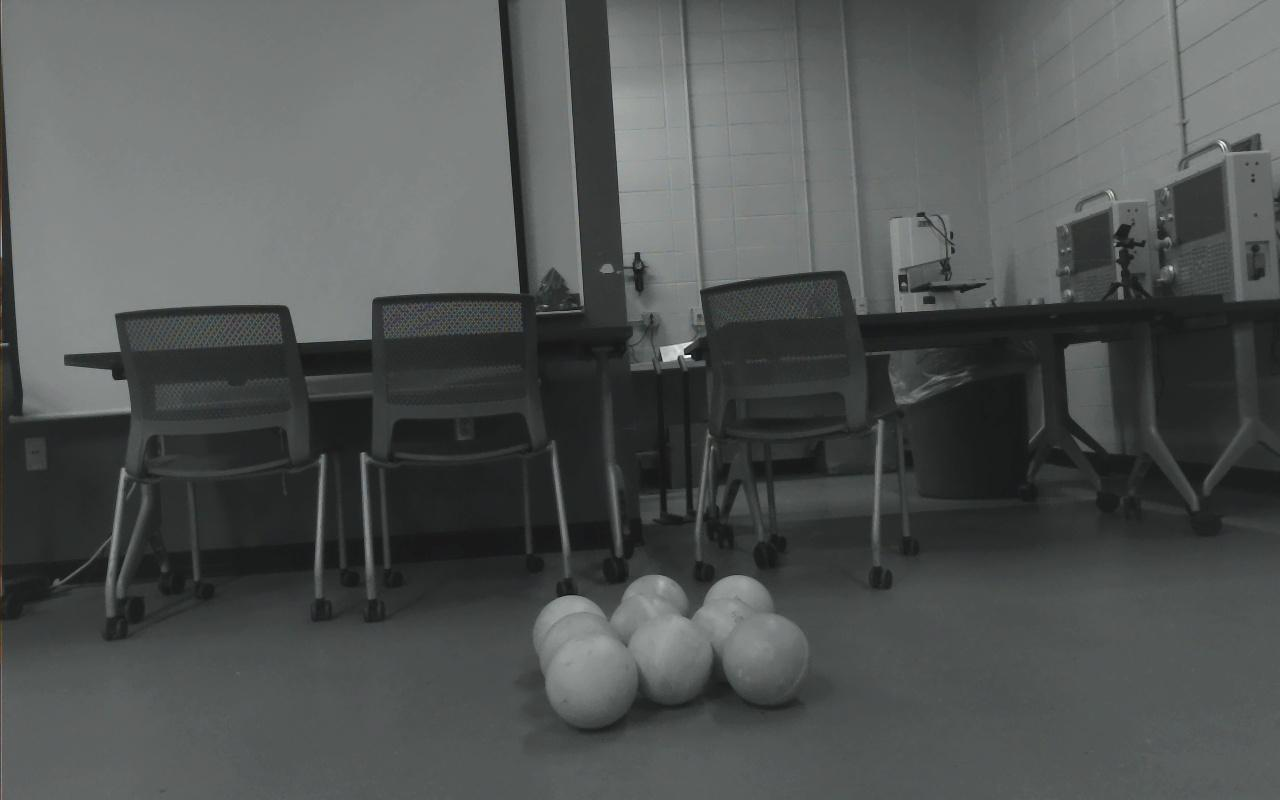Fuel: (544, 630, 639, 730), (721, 612, 812, 706), (627, 613, 714, 708), (538, 611, 625, 700), (687, 597, 769, 687), (607, 594, 689, 682), (701, 574, 778, 658), (531, 594, 609, 676), (617, 574, 692, 657)
